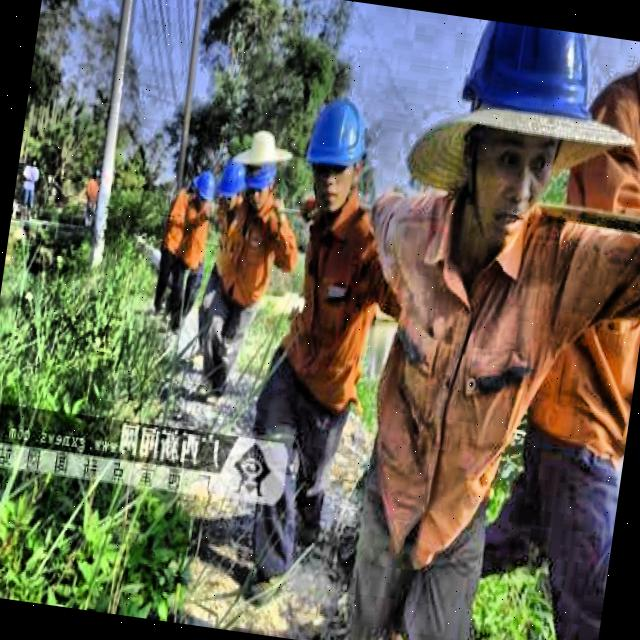helmet: (420, 17, 626, 265), (293, 85, 381, 217), (242, 124, 284, 188), (212, 154, 246, 220), (192, 163, 218, 213)
